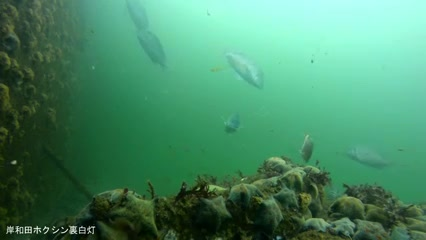smallfish: (339, 135, 396, 176), (222, 41, 273, 82)
